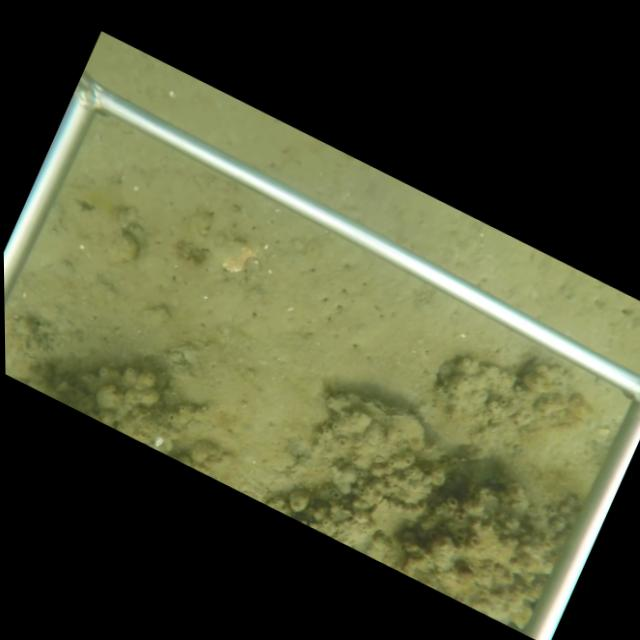Oyster-Closed: (324, 389, 426, 460), (367, 499, 428, 539)
